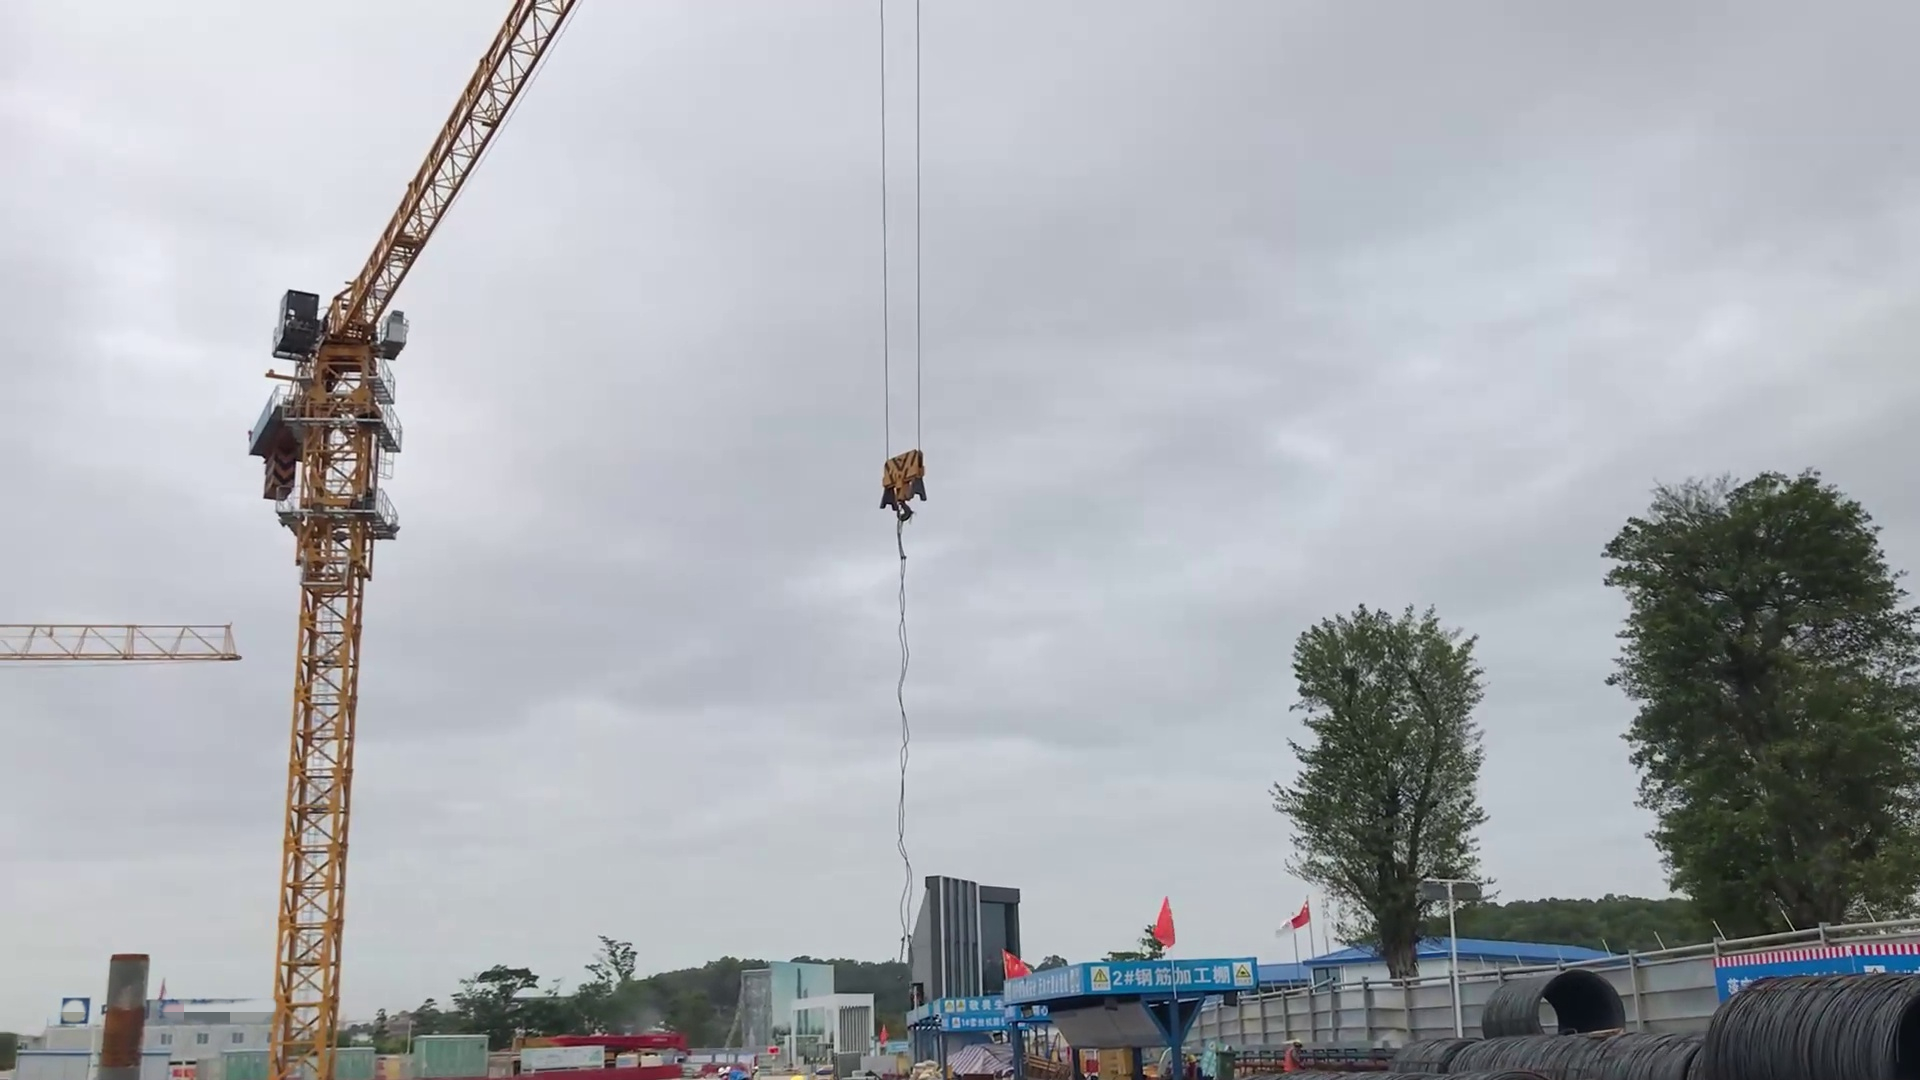hook: (862, 430, 939, 539)
